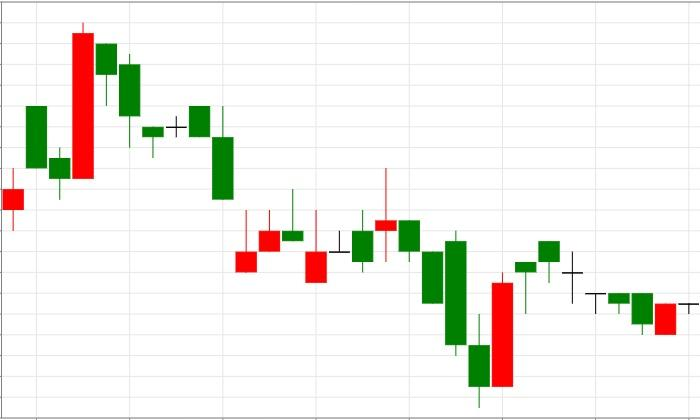inverse_hammer_rise: (96, 42, 257, 273)
